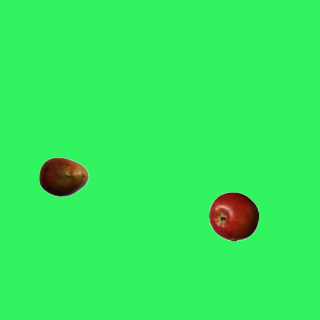Apple Braeburn: (208, 191, 258, 241)
Mango Red: (38, 151, 88, 201)
